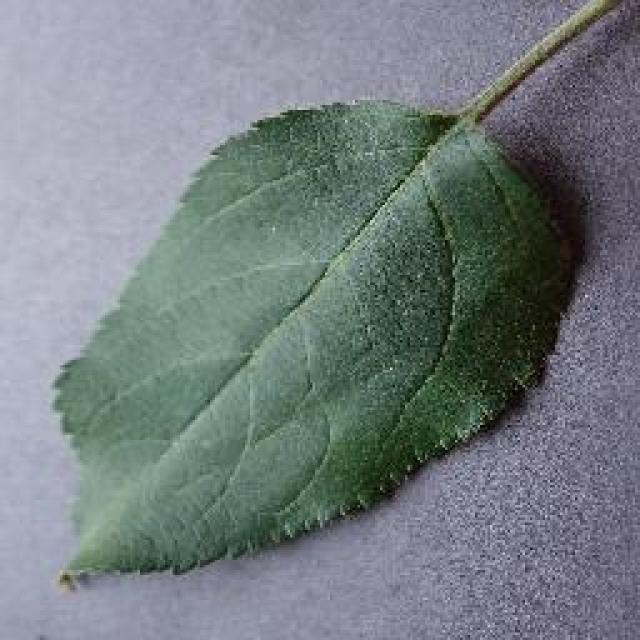apple healthy: (47, 0, 637, 592)
